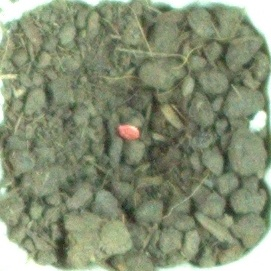chilli seed: (113, 121, 144, 143)
